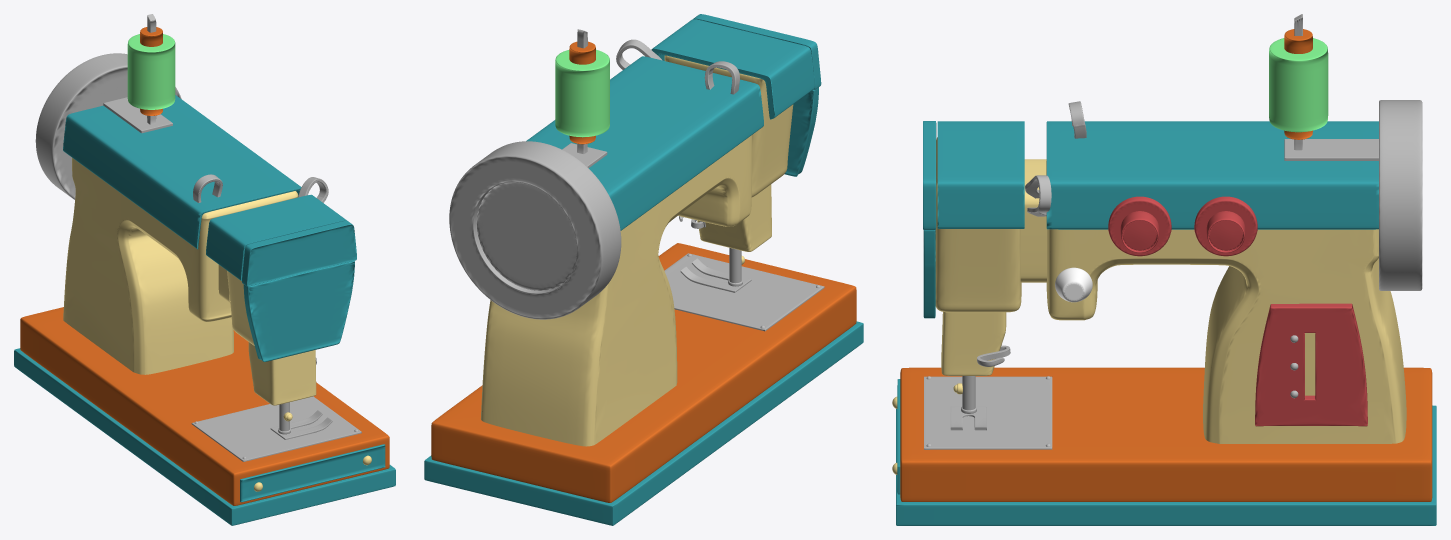
The model's file is SewMerge.fbx.
3 views of the same model, side by side, from view 1: azimuth 30°, elevation 25°; view 2: azimuth 150°, elevation 25°; view 3: azimuth 270°, elevation 25° (orthographic). The views are drawn at different scales.
Parts seen in each view (by area): view 1: pCube1; view 2: pCube1; view 3: pCube1.
Part boxes in pixels (x1,y1,x2,y2): pCube1: [14, 14, 395, 525]; pCube1: [424, 14, 863, 525]; pCube1: [892, 14, 1436, 525].
Size of the model in its own units: 2.44 by 5.27 by 5.64.
